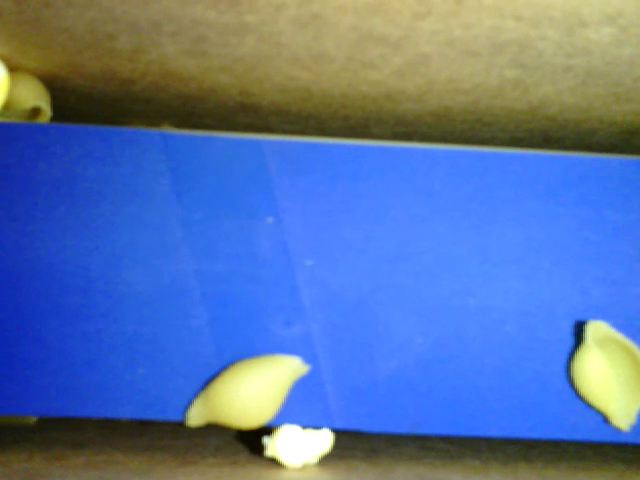shell: (186, 348, 314, 436), (563, 314, 636, 430), (3, 61, 59, 127)
